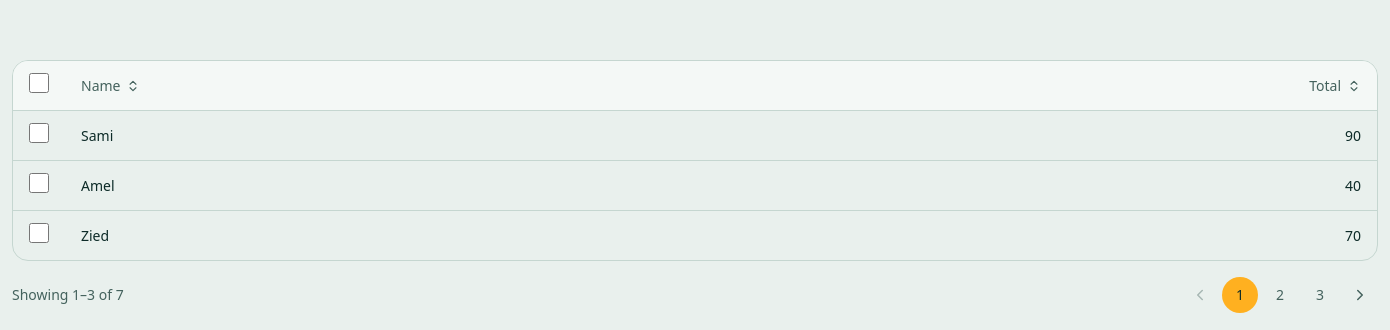
Test case: data table › selects rows and counts them
Click the checkbox named "Select Amel" at (39, 183), box [29,173,49,193]
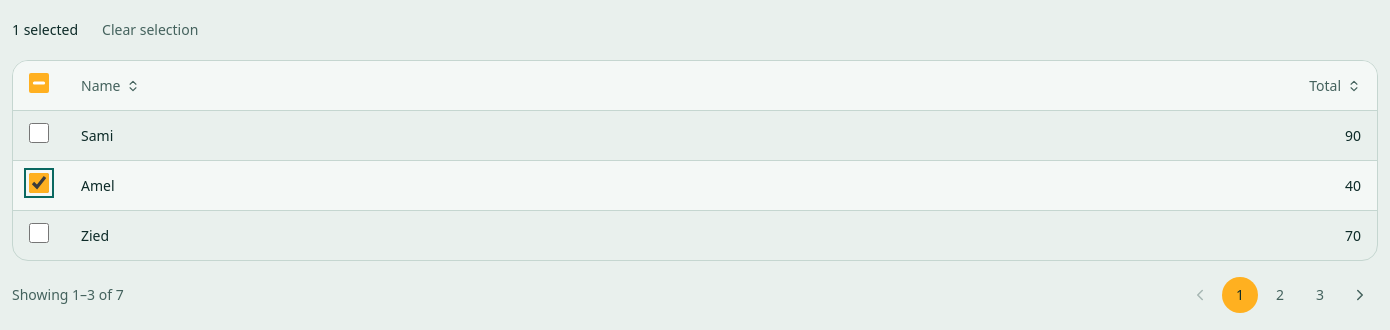
Expected: the text "1 selected" is shown, [12,20,78,40]
Click the checkbox named "Select all rows on this page" at (39, 83), box [29,73,49,93]
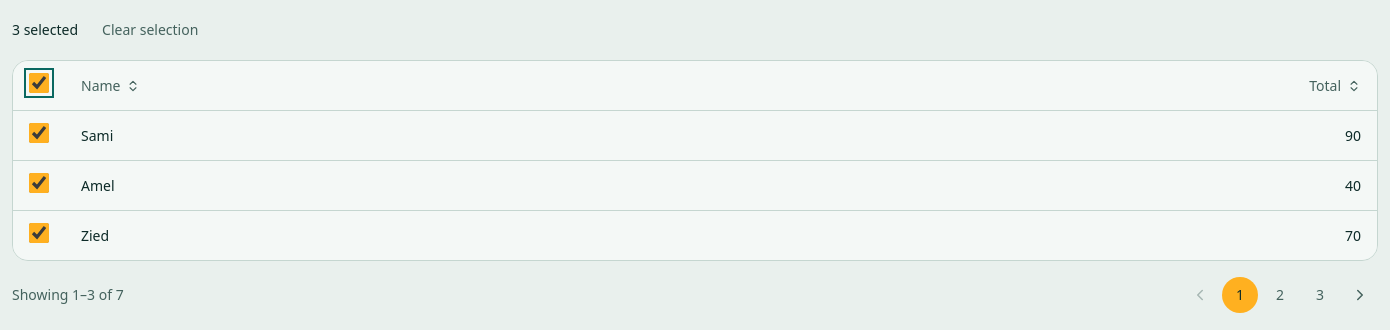
Expected: the text "3 selected" is shown, [12,20,78,40]
Click the button "Clear selection" at (150, 30), box [90,14,210,46]
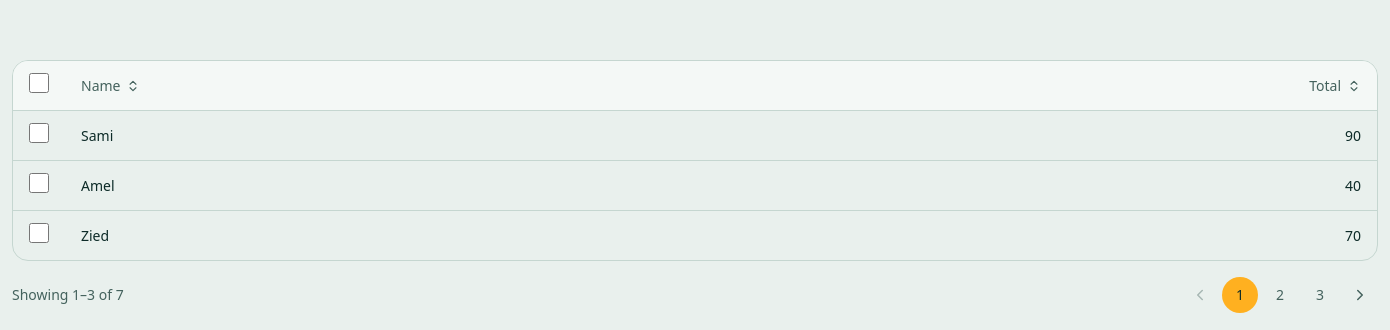
Expected: the text "selected" is gone
